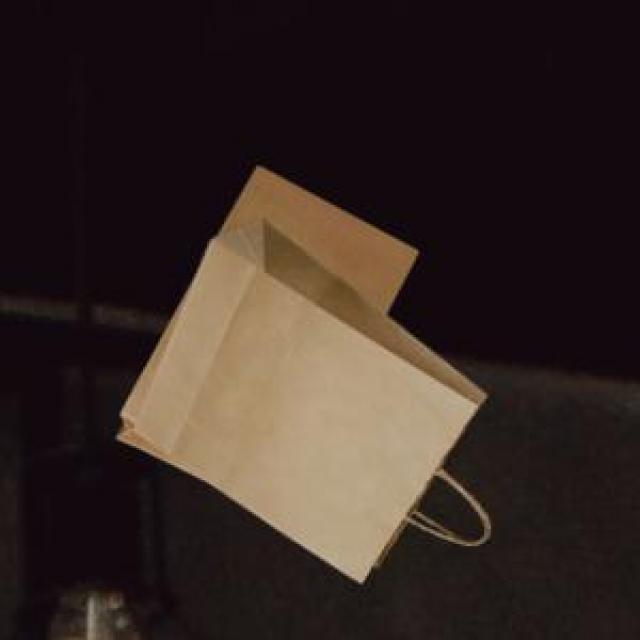Paper -Biodegradable-: (122, 171, 484, 579)
